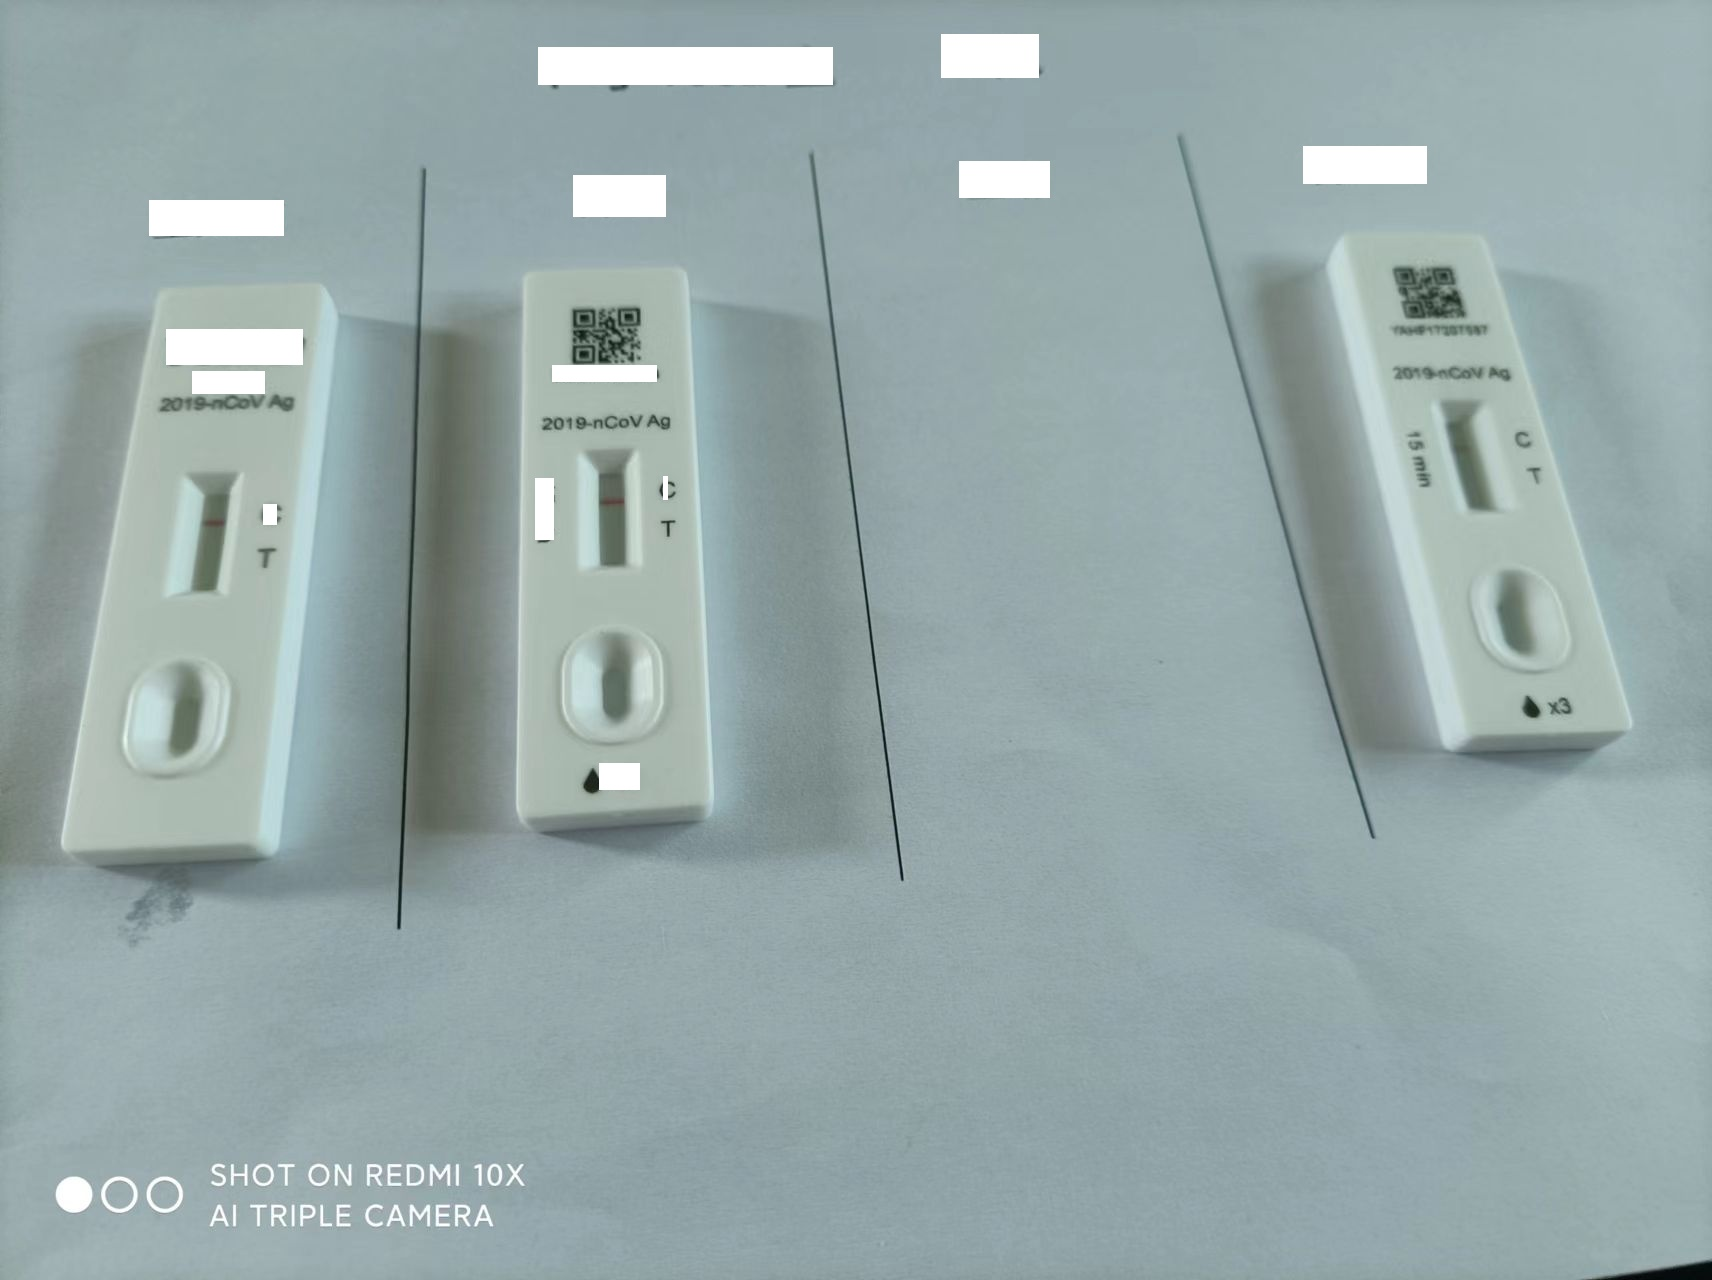negative: (173, 468, 242, 597), (1438, 401, 1506, 511), (578, 448, 637, 571)
